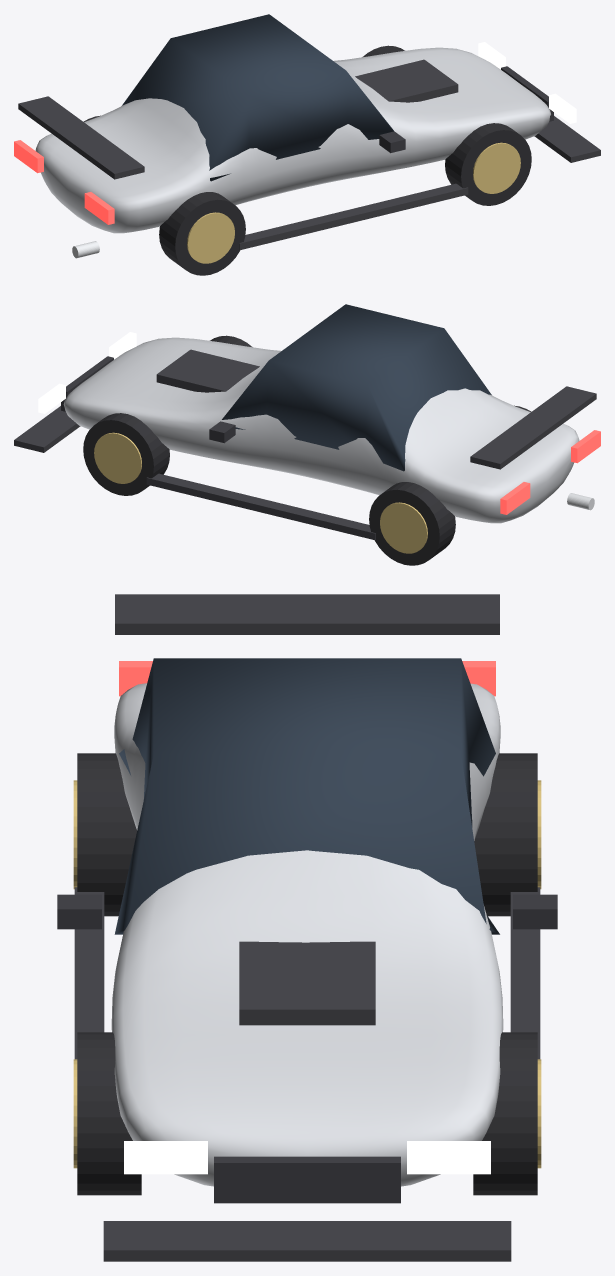
File: car_sahin.glb
3 views of the same model, one above another, from view 1: azimuth 30°, elevation 25°; view 2: azimuth 150°, elevation 25°; view 3: azimuth 270°, elevation 25° (orthographic). The views are drawn at different scales.
Parts seen in each view (by area): view 1: CarBody, CarGlass, Mod_Wing, Tire_-1.333_-1, Tire_1.333_-1, Mod_Skirt_-1, Mod_Hood, Rim_1.333_-1, Rim_-1.333_-1, Mod_Splitter, TailL_-1, TailL_1 (+4 smaller); view 2: CarBody, CarGlass, Mod_Wing, Tire_-1.333_1, Tire_1.333_1, Mod_Skirt_1, Mod_Hood, Rim_1.333_1, Rim_-1.333_1, Mod_Splitter, TailL_1, TailL_-1 (+4 smaller); view 3: CarBody, CarGlass, Mod_Splitter, Mod_Wing, Mod_Hood, Grille, Tire_-1.333_1, Tire_-1.333_-1, Tire_1.333_1, Tire_1.333_-1, Mod_Skirt_1, Mod_Skirt_-1 (+4 smaller).
Boxes of the visible parts, x1,y1,x2,y2 form: CarBody: (35,47,550,233); CarGlass: (122,14,393,181); Mod_Wing: (18,96,144,179); Tire_-1.333_-1: (159,192,245,275); Tire_1.333_-1: (445,123,531,205); Mod_Skirt_-1: (239,183,468,250); Mod_Hood: (355,59,458,102); Rim_1.333_-1: (473,142,520,193); Rim_-1.333_-1: (187,212,234,263); Mod_Splitter: (534,116,600,162); TailL_-1: (84,192,114,224); TailL_1: (14,140,43,173); CarBody: (63,337,579,523); CarGlass: (222,304,491,471); Mod_Wing: (470,386,596,469); Tire_-1.333_1: (369,482,455,565); Tire_1.333_1: (83,413,169,495); Mod_Skirt_1: (146,473,375,540); Mod_Hood: (156,349,259,392); Rim_1.333_1: (94,432,141,483); Rim_-1.333_1: (380,502,427,553); Mod_Splitter: (14,406,80,452); TailL_1: (500,482,530,514); TailL_-1: (571,430,600,463); CarBody: (111,683,503,1186); CarGlass: (114,658,499,934); Mod_Splitter: (103,1221,511,1261); Mod_Wing: (115,594,499,634); Mod_Hood: (239,941,375,1025); Grille: (214,1156,400,1203); Tire_-1.333_1: (474,753,537,916); Tire_-1.333_-1: (77,753,136,916); Tire_1.333_1: (473,1032,537,1195); Tire_1.333_-1: (77,1032,141,1195); Mod_Skirt_1: (510,887,540,1059); Mod_Skirt_-1: (74,887,104,1059).
Size of the model in its own units: 4.67 by 1.36 by 2.02.
